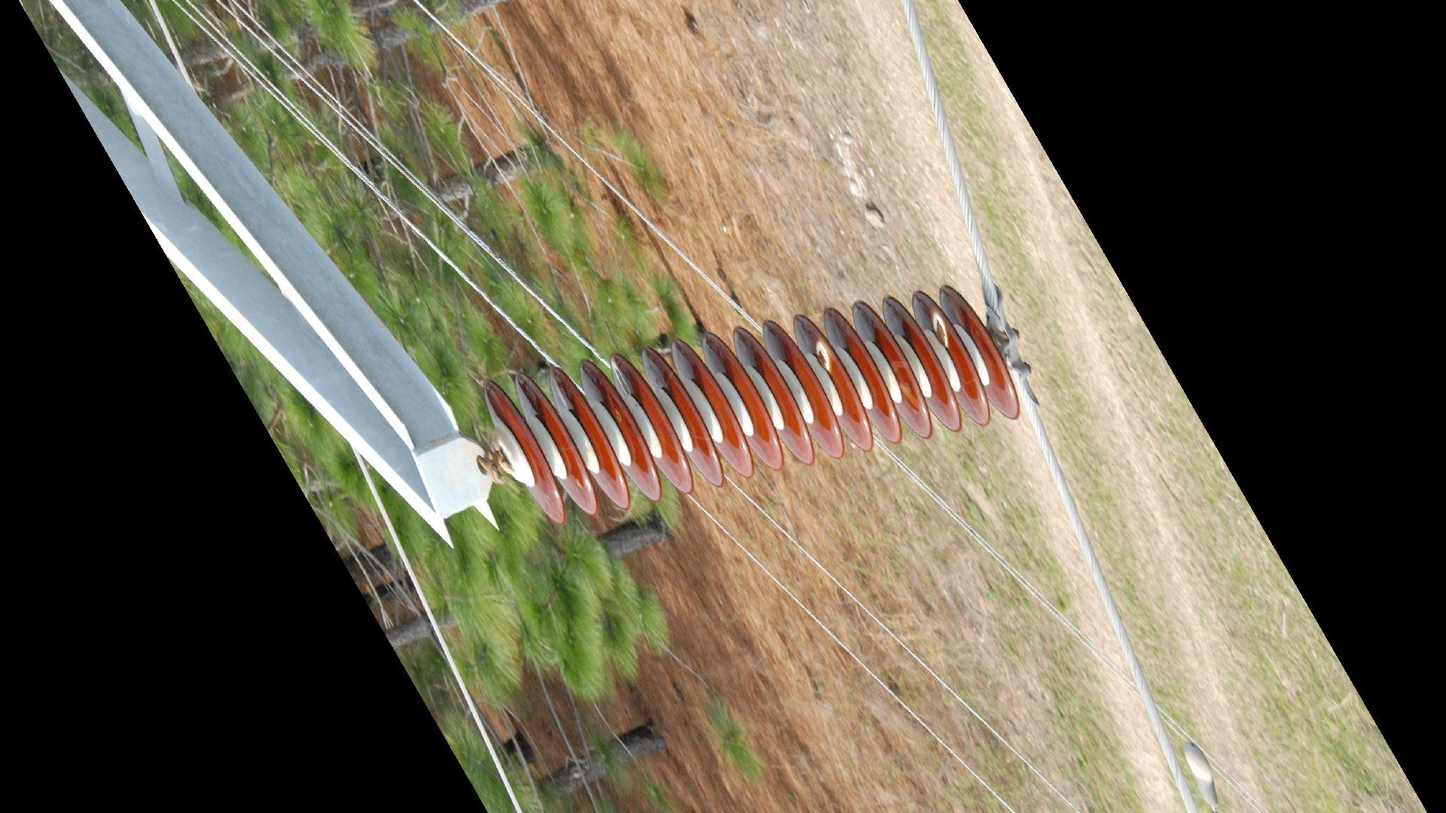insulator: (480, 279, 1025, 531)
insulator_flashover: (930, 310, 950, 349), (813, 337, 833, 373)
